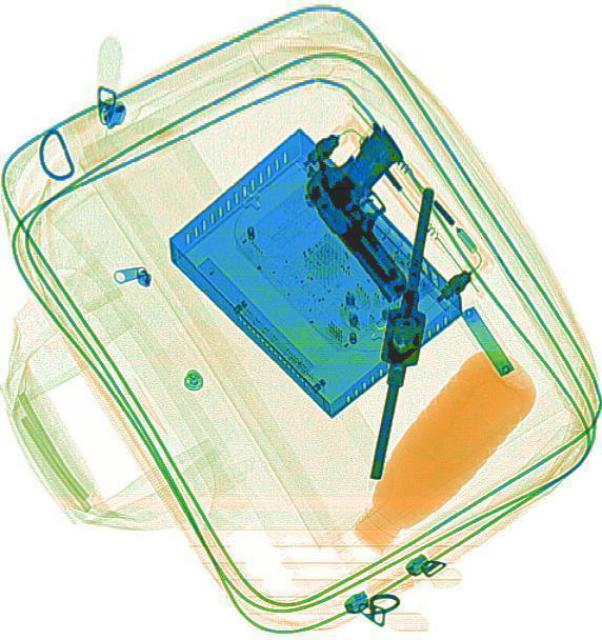Gun: (287, 116, 471, 304)
